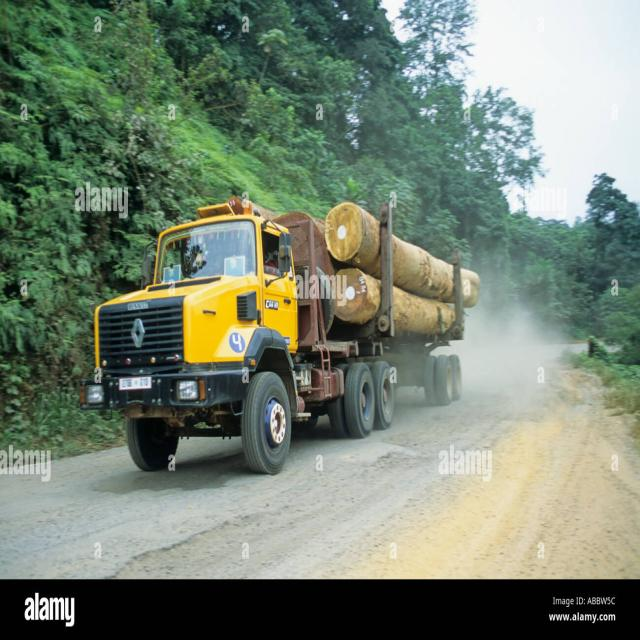Truck: (89, 192, 483, 481)
